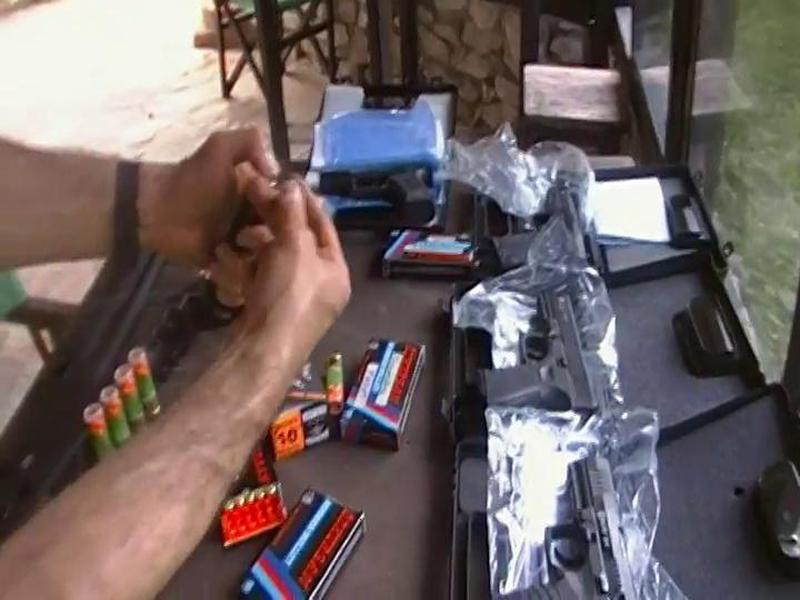Pistola: (454, 281, 610, 431)
